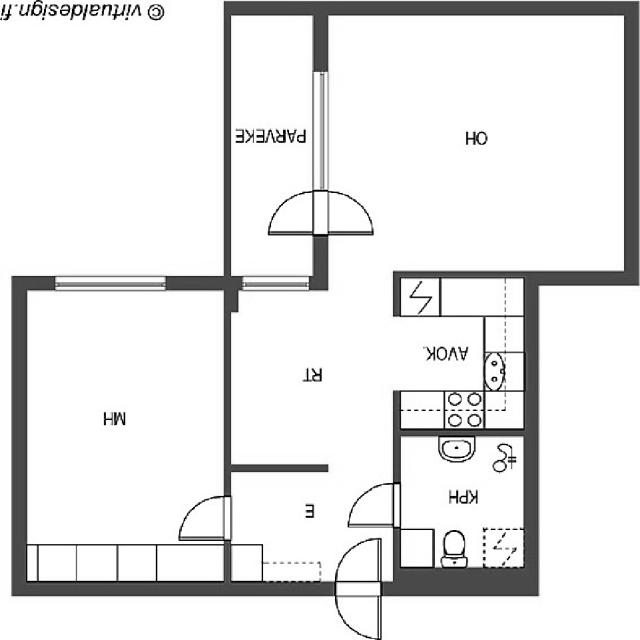door: (329, 534, 387, 638), (316, 183, 380, 237), (342, 475, 403, 531), (175, 487, 235, 543), (266, 186, 321, 236)
window: (396, 431, 529, 574), (305, 66, 339, 195), (45, 268, 176, 294), (231, 266, 318, 298)
zone: (323, 8, 623, 276), (12, 280, 224, 586), (225, 279, 394, 469), (225, 9, 325, 278), (224, 469, 399, 588), (394, 277, 529, 430), (396, 431, 531, 574)
